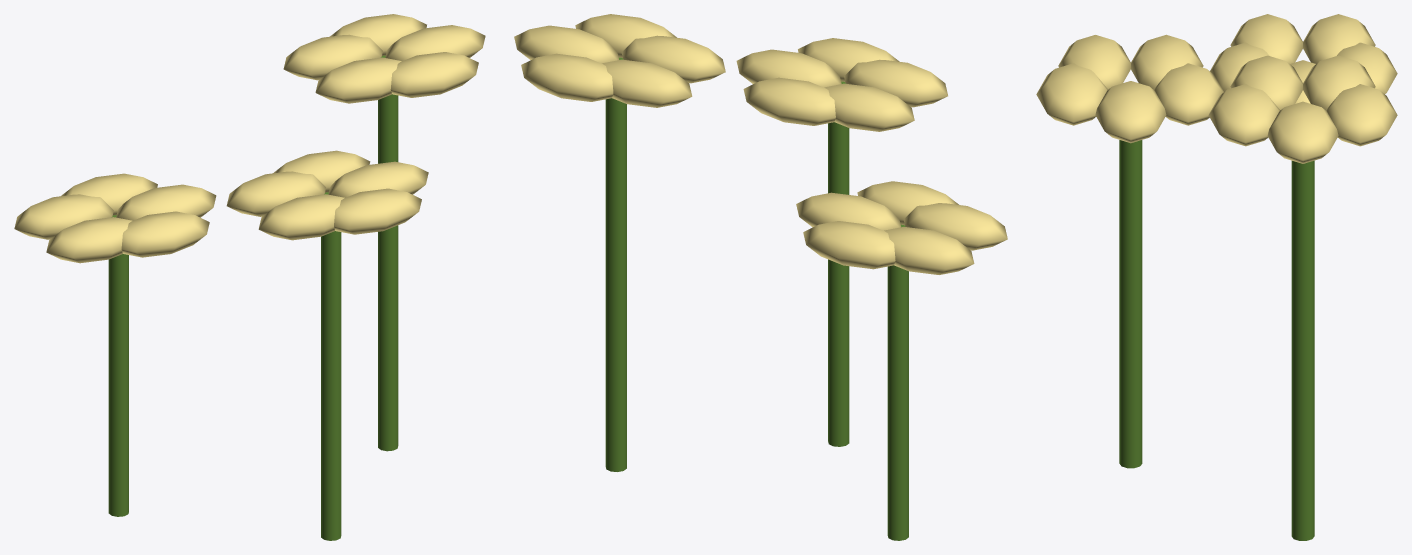
Rendered from flower.glb.
3 renders of one model, left to right at view 1: azimuth 30°, elevation 25°; view 2: azimuth 150°, elevation 25°; view 3: azimuth 270°, elevation 25°, orthographic. The views are drawn at different scales.
Visible parts, largest first — view 1: flower__petal, flower__leaf; view 2: flower__petal, flower__leaf; view 3: flower__petal, flower__leaf.
Boxes of the visible parts, x1=… form: flower__petal: x1=14, y1=14, x2=485, y2=263; flower__leaf: x1=108, y1=55, x2=398, y2=540; flower__petal: x1=514, y1=14, x2=1007, y2=274; flower__leaf: x1=605, y1=57, x2=908, y2=540; flower__petal: x1=1036, y1=14, x2=1397, y2=163; flower__leaf: x1=1119, y1=140, x2=1314, y2=540.
Bounding box in the file's own units: 0.406 × 0.343 × 0.2519.
